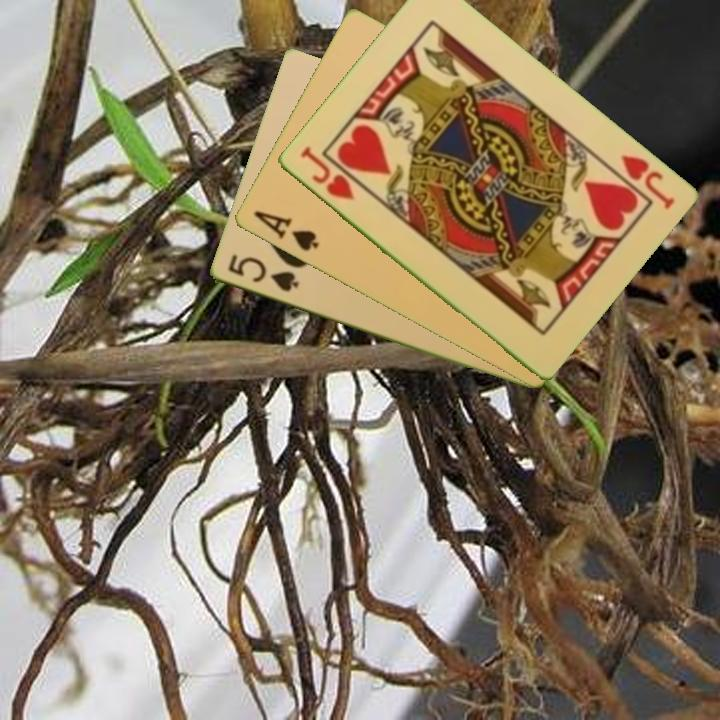5s: (223, 251, 302, 295)
As: (249, 207, 322, 254)
Jh: (616, 151, 677, 213), (296, 143, 357, 204)
